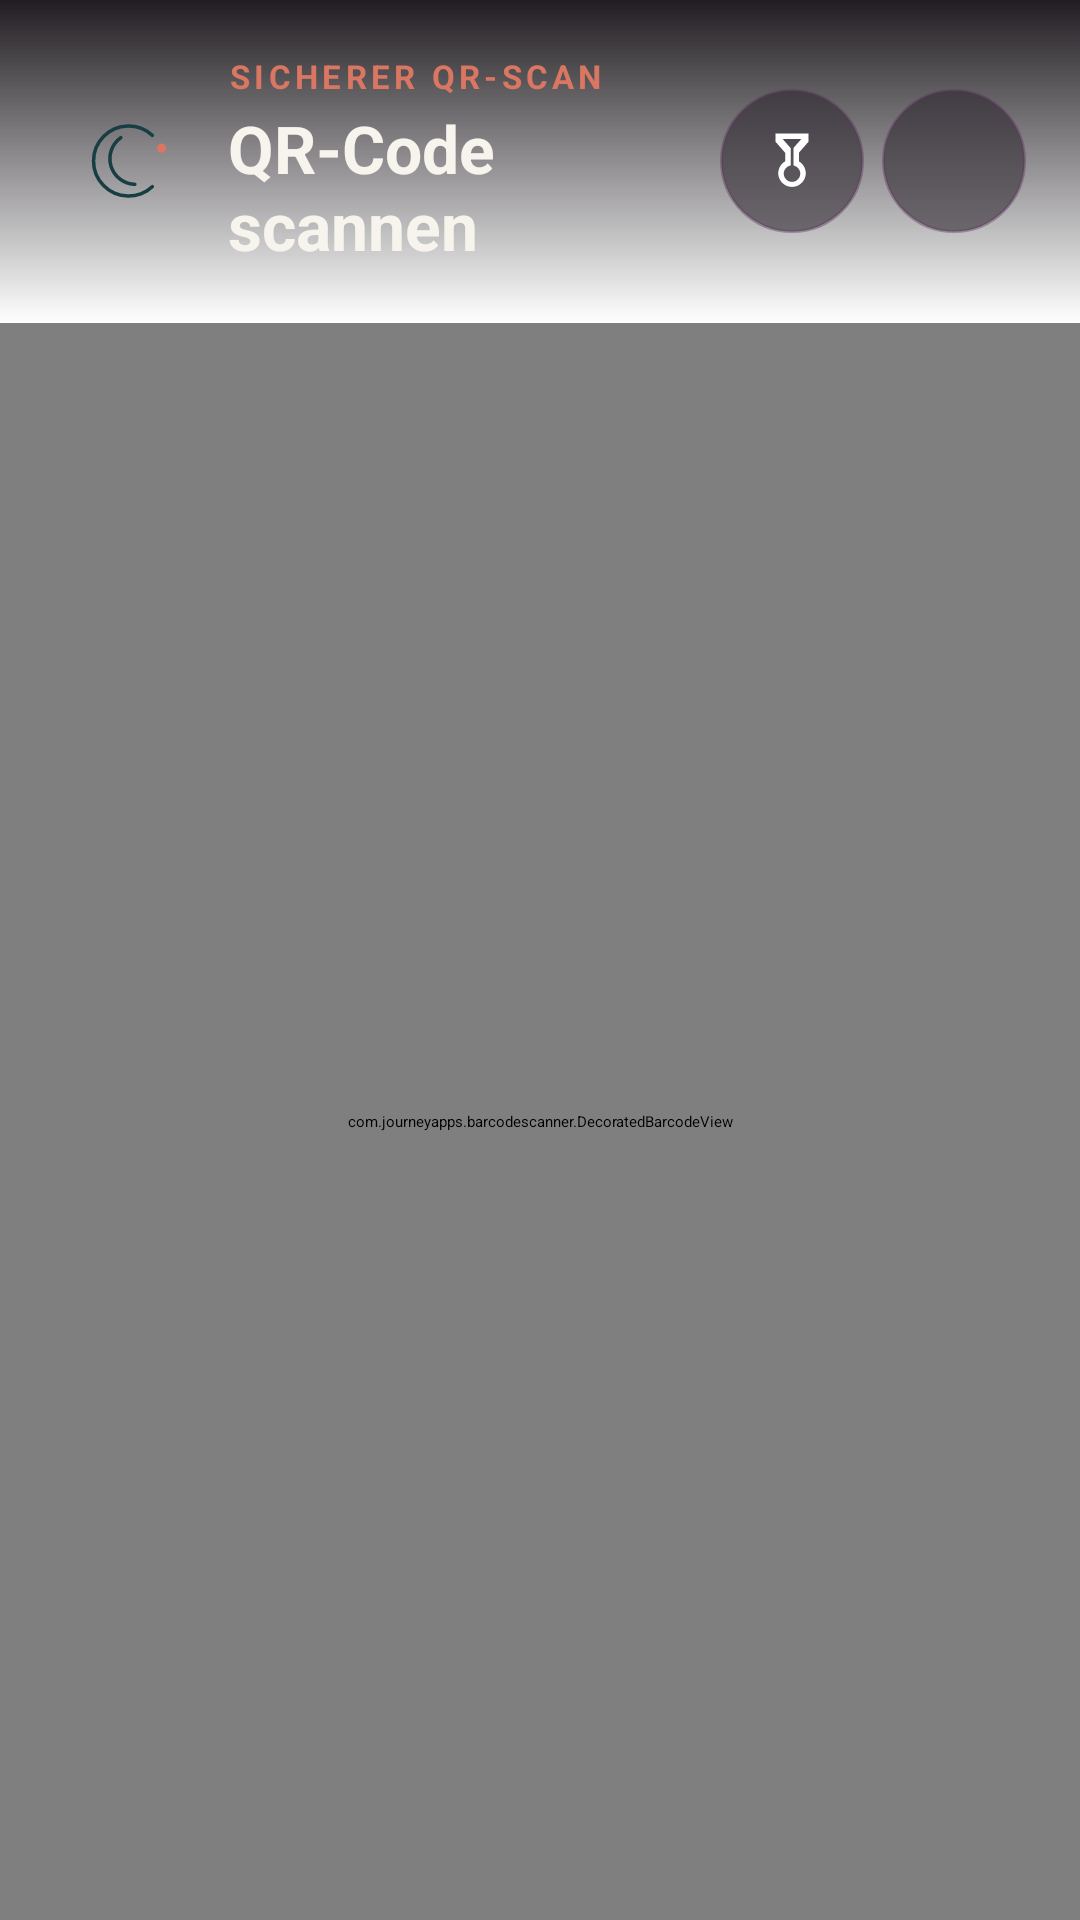

Screen size 1080w x 1920h. Icon name, then its center in pixels as (x,y):
lunara mark: (129,161)
Taschenlampe einschalten: (792,161)
